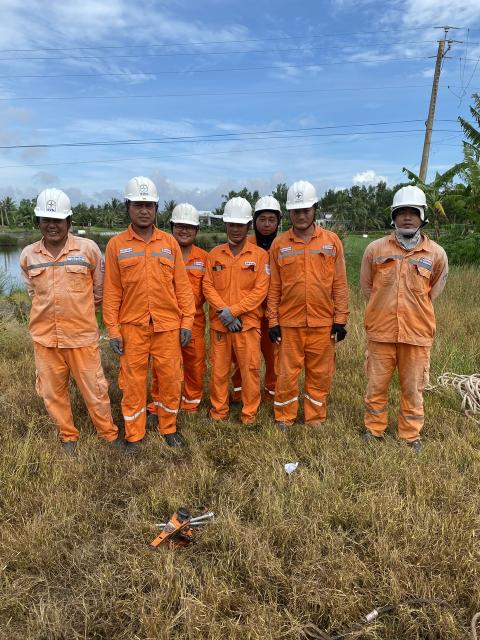gloves: (105, 327, 138, 363), (324, 318, 348, 347), (268, 318, 290, 346), (176, 322, 199, 348), (227, 317, 253, 331), (218, 307, 237, 323)
helmet: (21, 180, 87, 222), (275, 172, 327, 218), (385, 183, 437, 224), (118, 172, 168, 205), (245, 189, 286, 224), (217, 196, 254, 227), (168, 199, 205, 228)
shoes: (50, 431, 97, 462), (161, 431, 196, 457), (406, 433, 434, 463), (99, 429, 125, 457), (272, 417, 300, 443), (358, 433, 392, 454), (126, 436, 149, 464), (147, 406, 162, 430)
